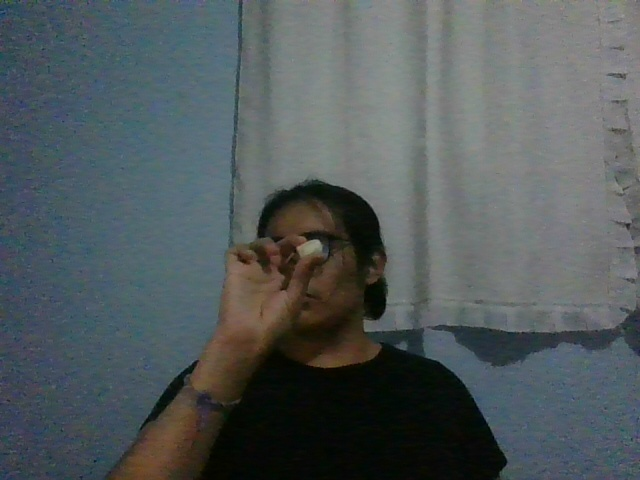goma: (296, 239, 323, 258)
